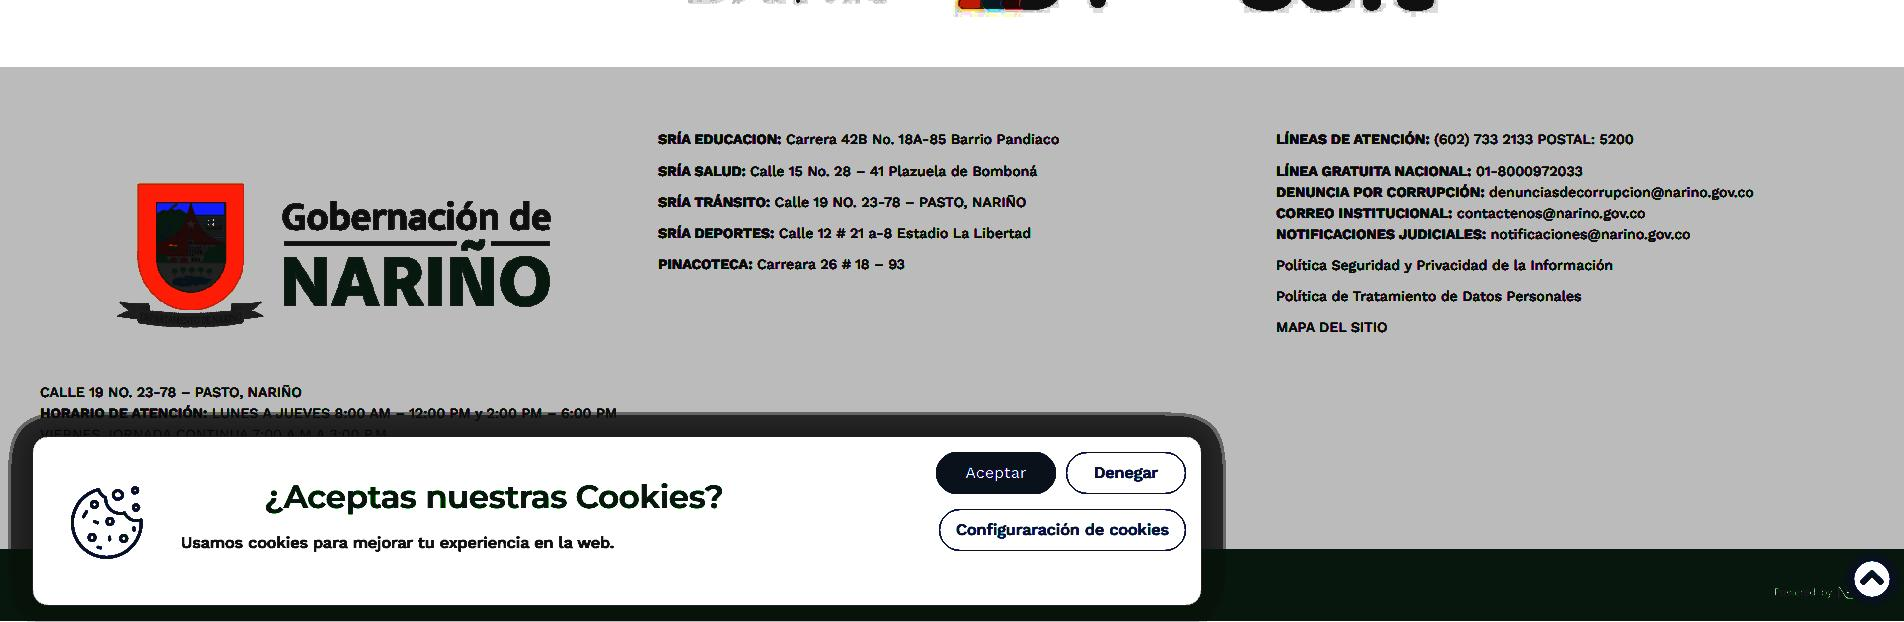banner entidades: (388, 0, 1439, 20)
btn volver arriba: (1841, 549, 1901, 611)
correo institucional: (1274, 200, 1456, 226)
denuncias corrupcion: (1273, 182, 1486, 200)
footer: (0, 57, 1904, 555)
horario atencion: (36, 401, 211, 426)
mapa sitio: (1271, 317, 1392, 336)
politica datos: (1271, 283, 1587, 307)
